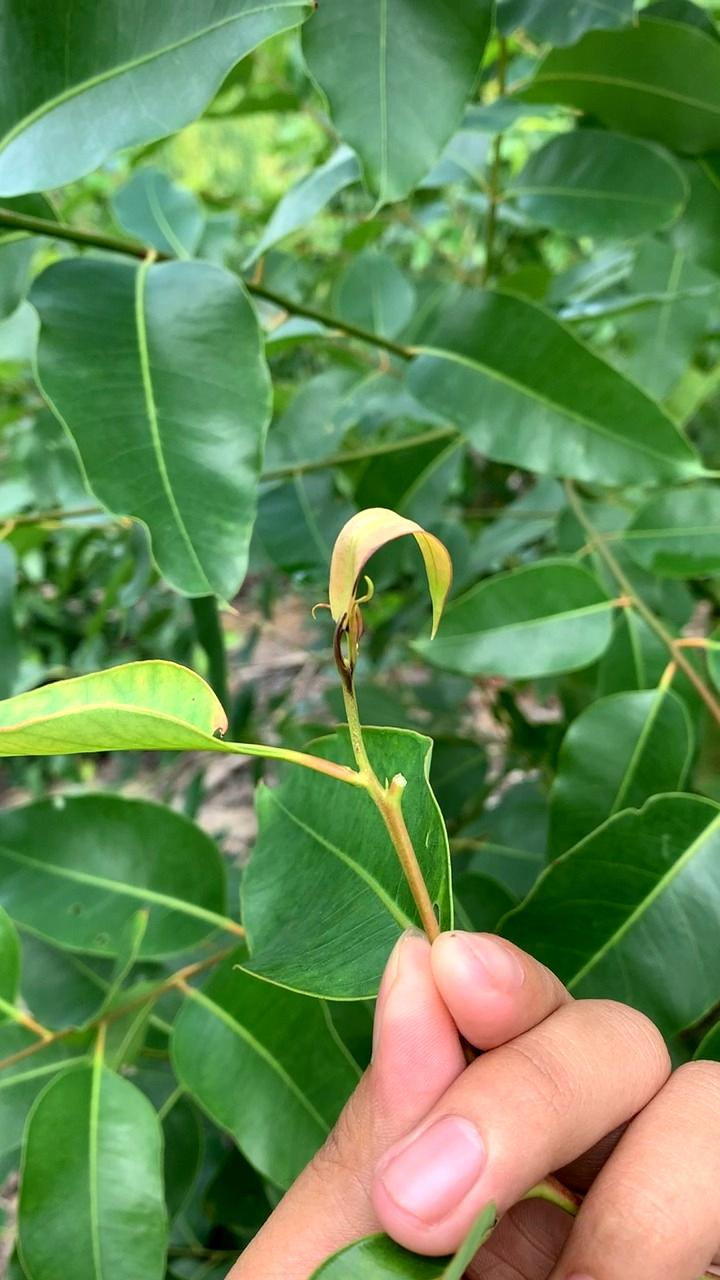Helopeltis-Withered Sprout: (313, 493, 457, 657)
